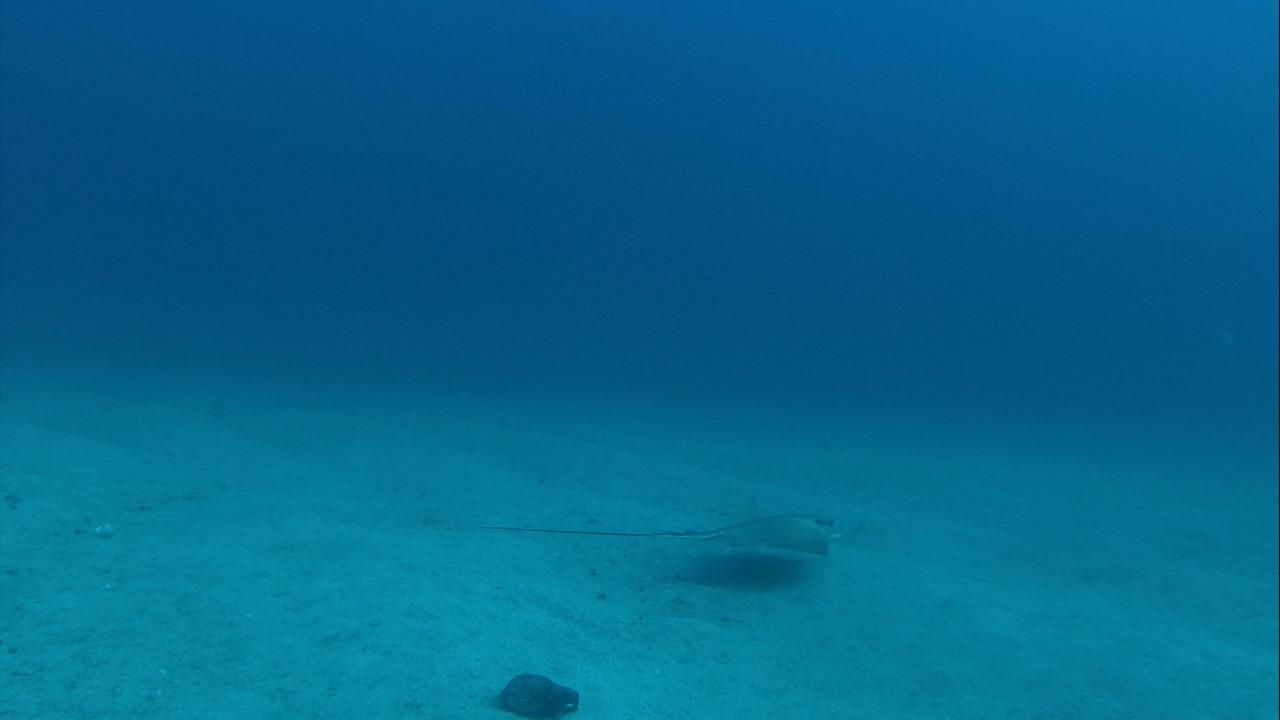myliobatis: (411, 492, 842, 573)
